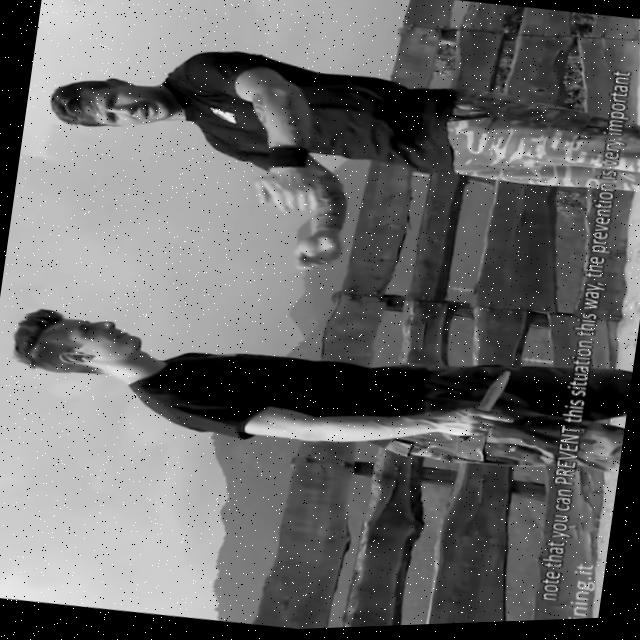knife: (477, 372, 515, 417)
